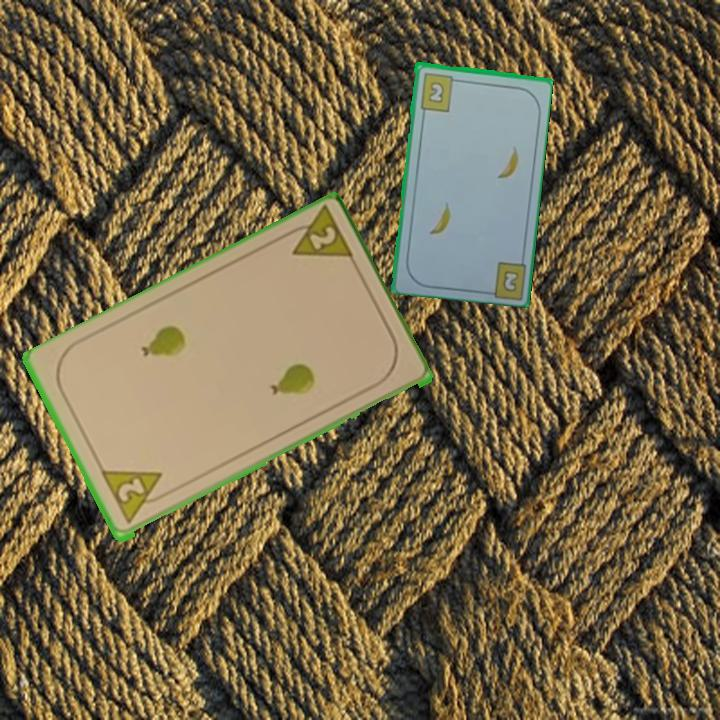2b: (417, 69, 462, 114), (499, 267, 521, 295)
2p: (278, 205, 358, 265), (98, 467, 172, 527)
